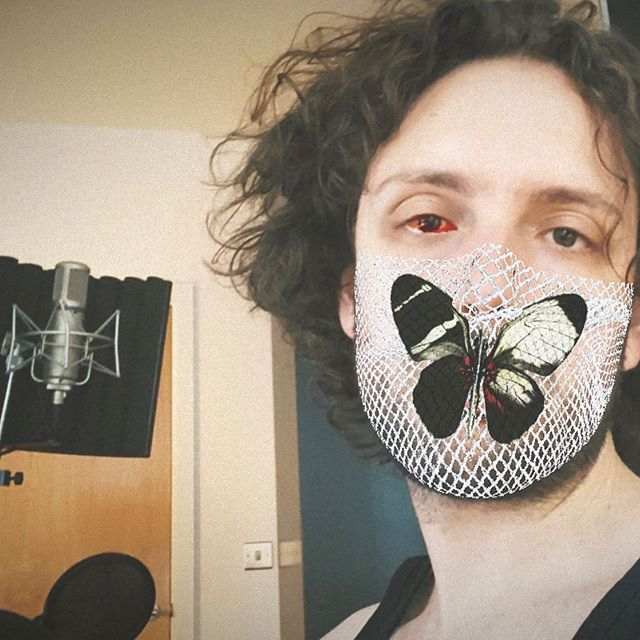homemade: (349, 241, 640, 515)
